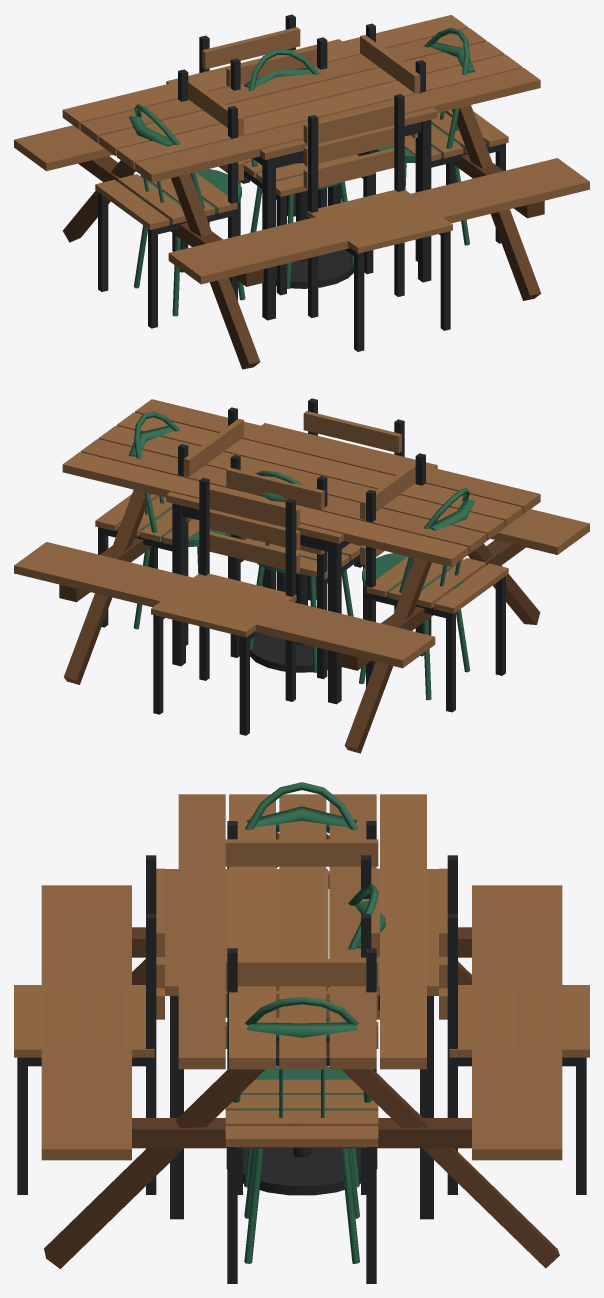
The model's file is patio_furniture.glb.
The picture shows the model from 3 angles, top to bottom: view 1: azimuth 30°, elevation 25°; view 2: azimuth 150°, elevation 25°; view 3: azimuth 270°, elevation 25°; orthographic projection. The views are drawn at different scales.
Parts seen in each view (by area): view 1: patio_picnic, patio_set_four, patio_set_bistro_green, patio_chair_slat, patio_chair_bistro_green; view 2: patio_picnic, patio_set_four, patio_set_bistro_green, patio_chair_slat, patio_chair_bistro_green; view 3: patio_picnic, patio_set_four, patio_set_bistro_green, patio_chair_slat, patio_chair_bistro_green.
Boxes of the visible parts, box(x1,y1,x2,y2) form: patio_picnic: box(14, 15, 589, 369); patio_set_four: box(95, 14, 508, 351); patio_set_bistro_green: box(129, 27, 474, 316); patio_chair_slat: box(226, 37, 375, 295); patio_chair_bistro_green: box(244, 49, 353, 288); patio_picnic: box(14, 399, 589, 753); patio_set_four: box(95, 398, 508, 735); patio_set_bistro_green: box(128, 411, 475, 700); patio_chair_slat: box(226, 455, 365, 679); patio_chair_bistro_green: box(250, 470, 353, 672); patio_picnic: box(41, 794, 562, 1268); patio_set_four: box(14, 821, 589, 1283); patio_set_bistro_green: box(226, 782, 377, 1263); patio_chair_slat: box(237, 855, 379, 1194); patio_chair_bistro_green: box(244, 884, 385, 1187).
Size of what is drawn, in the model's own units: 1.8 by 0.902 by 1.66.
